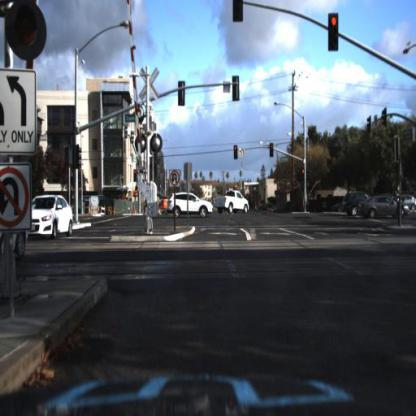car: (26, 194, 75, 241), (164, 182, 217, 220), (358, 196, 406, 220), (344, 184, 355, 222)
trafficLight: (8, 2, 45, 59), (233, 2, 244, 23)
trafficLight-Red: (328, 12, 340, 52), (269, 139, 277, 160), (233, 142, 239, 163), (301, 165, 307, 185)
truck: (214, 192, 250, 215)
